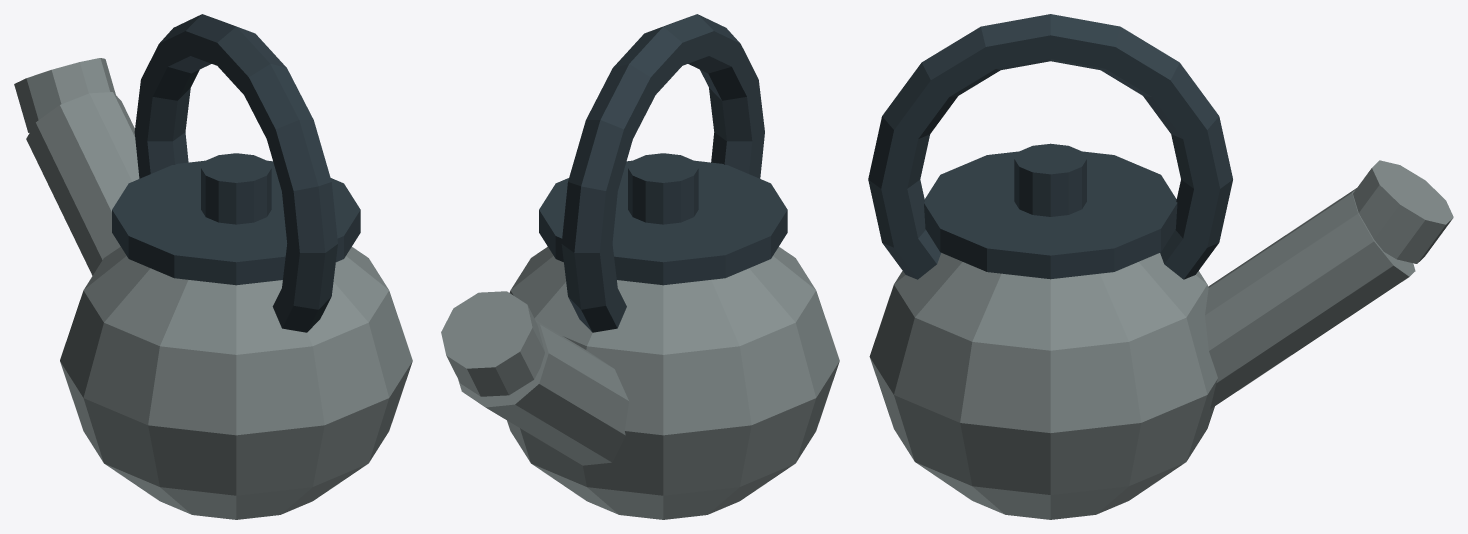
Rendered from kettle.glb.
3 views of the same model, side by side, from view 1: azimuth 30°, elevation 25°; view 2: azimuth 150°, elevation 25°; view 3: azimuth 270°, elevation 25° (orthographic). The views are drawn at different scales.
Visible parts, largest first — view 1: kettle; view 2: kettle; view 3: kettle.
Part boxes in pixels (x1,y1,x2,y2): kettle: [14, 14, 412, 519]; kettle: [441, 14, 839, 519]; kettle: [868, 14, 1453, 519].
Bounding box in the file's own units: 0.25 × 0.371 × 0.4043.
